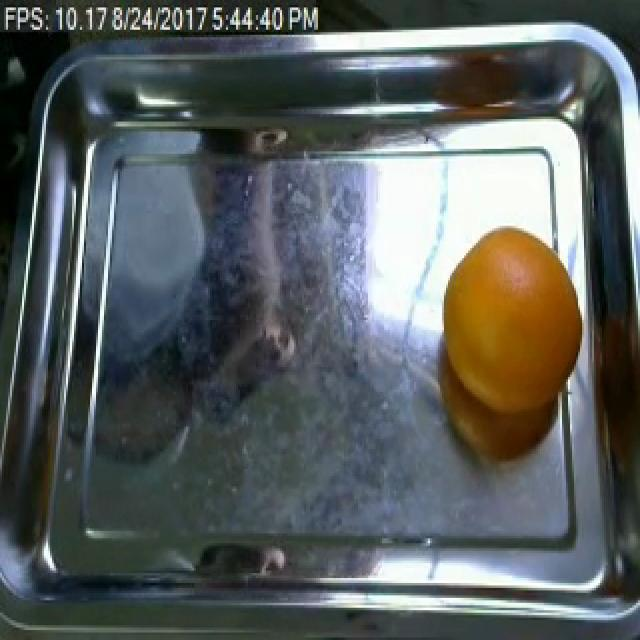Fruit: (434, 218, 590, 464)
